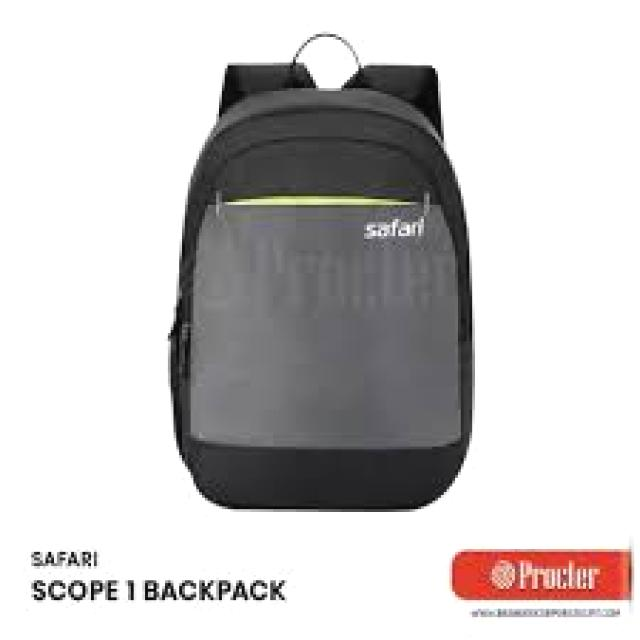backpack: (166, 32, 473, 510)
